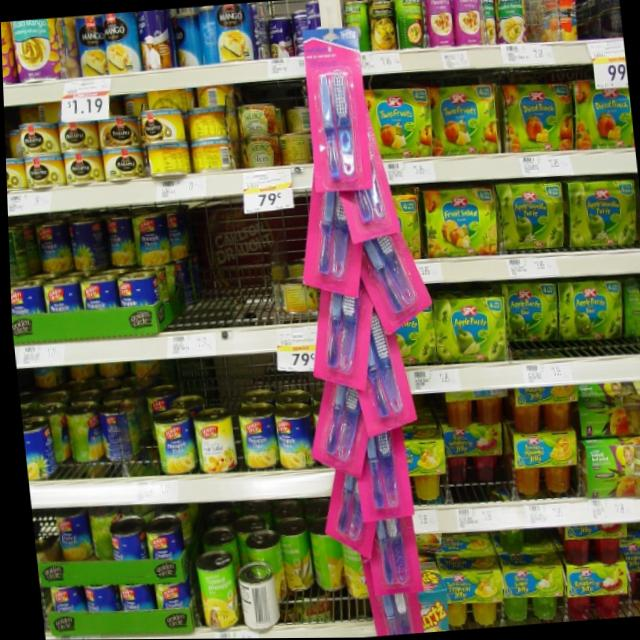q121: (434, 291, 509, 369), (567, 174, 639, 254), (497, 179, 567, 258), (555, 277, 620, 350)
